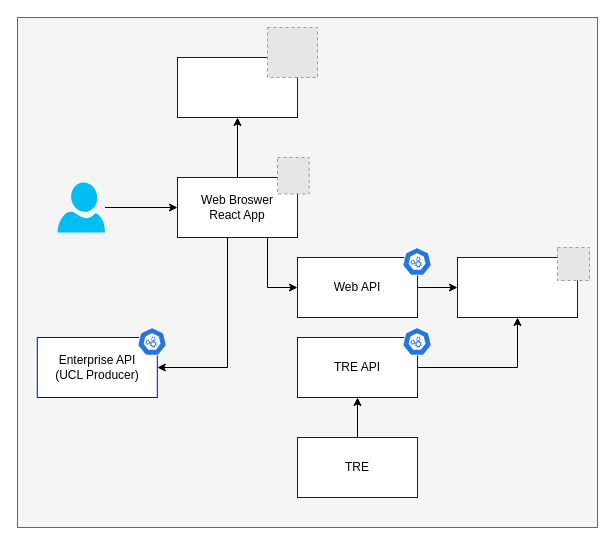
Some shapes in this 615 by 545 pixel diagram are drawn without their labels. Grey dashed boxes stand in for pictures. The shapes that lost their labels are listed below. From the top down, each one's box as (x1, y1, x2, y2) in pixels, then its label:
(176, 56, 298, 118): Entra
(456, 256, 578, 318): Application Data Store
